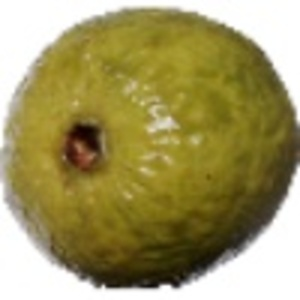goiaba: (5, 5, 299, 291)
